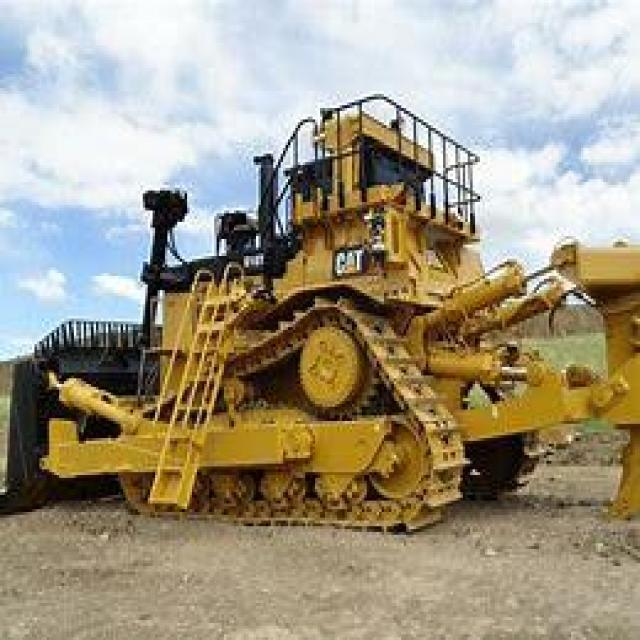Bulldozer: (2, 68, 638, 569)
